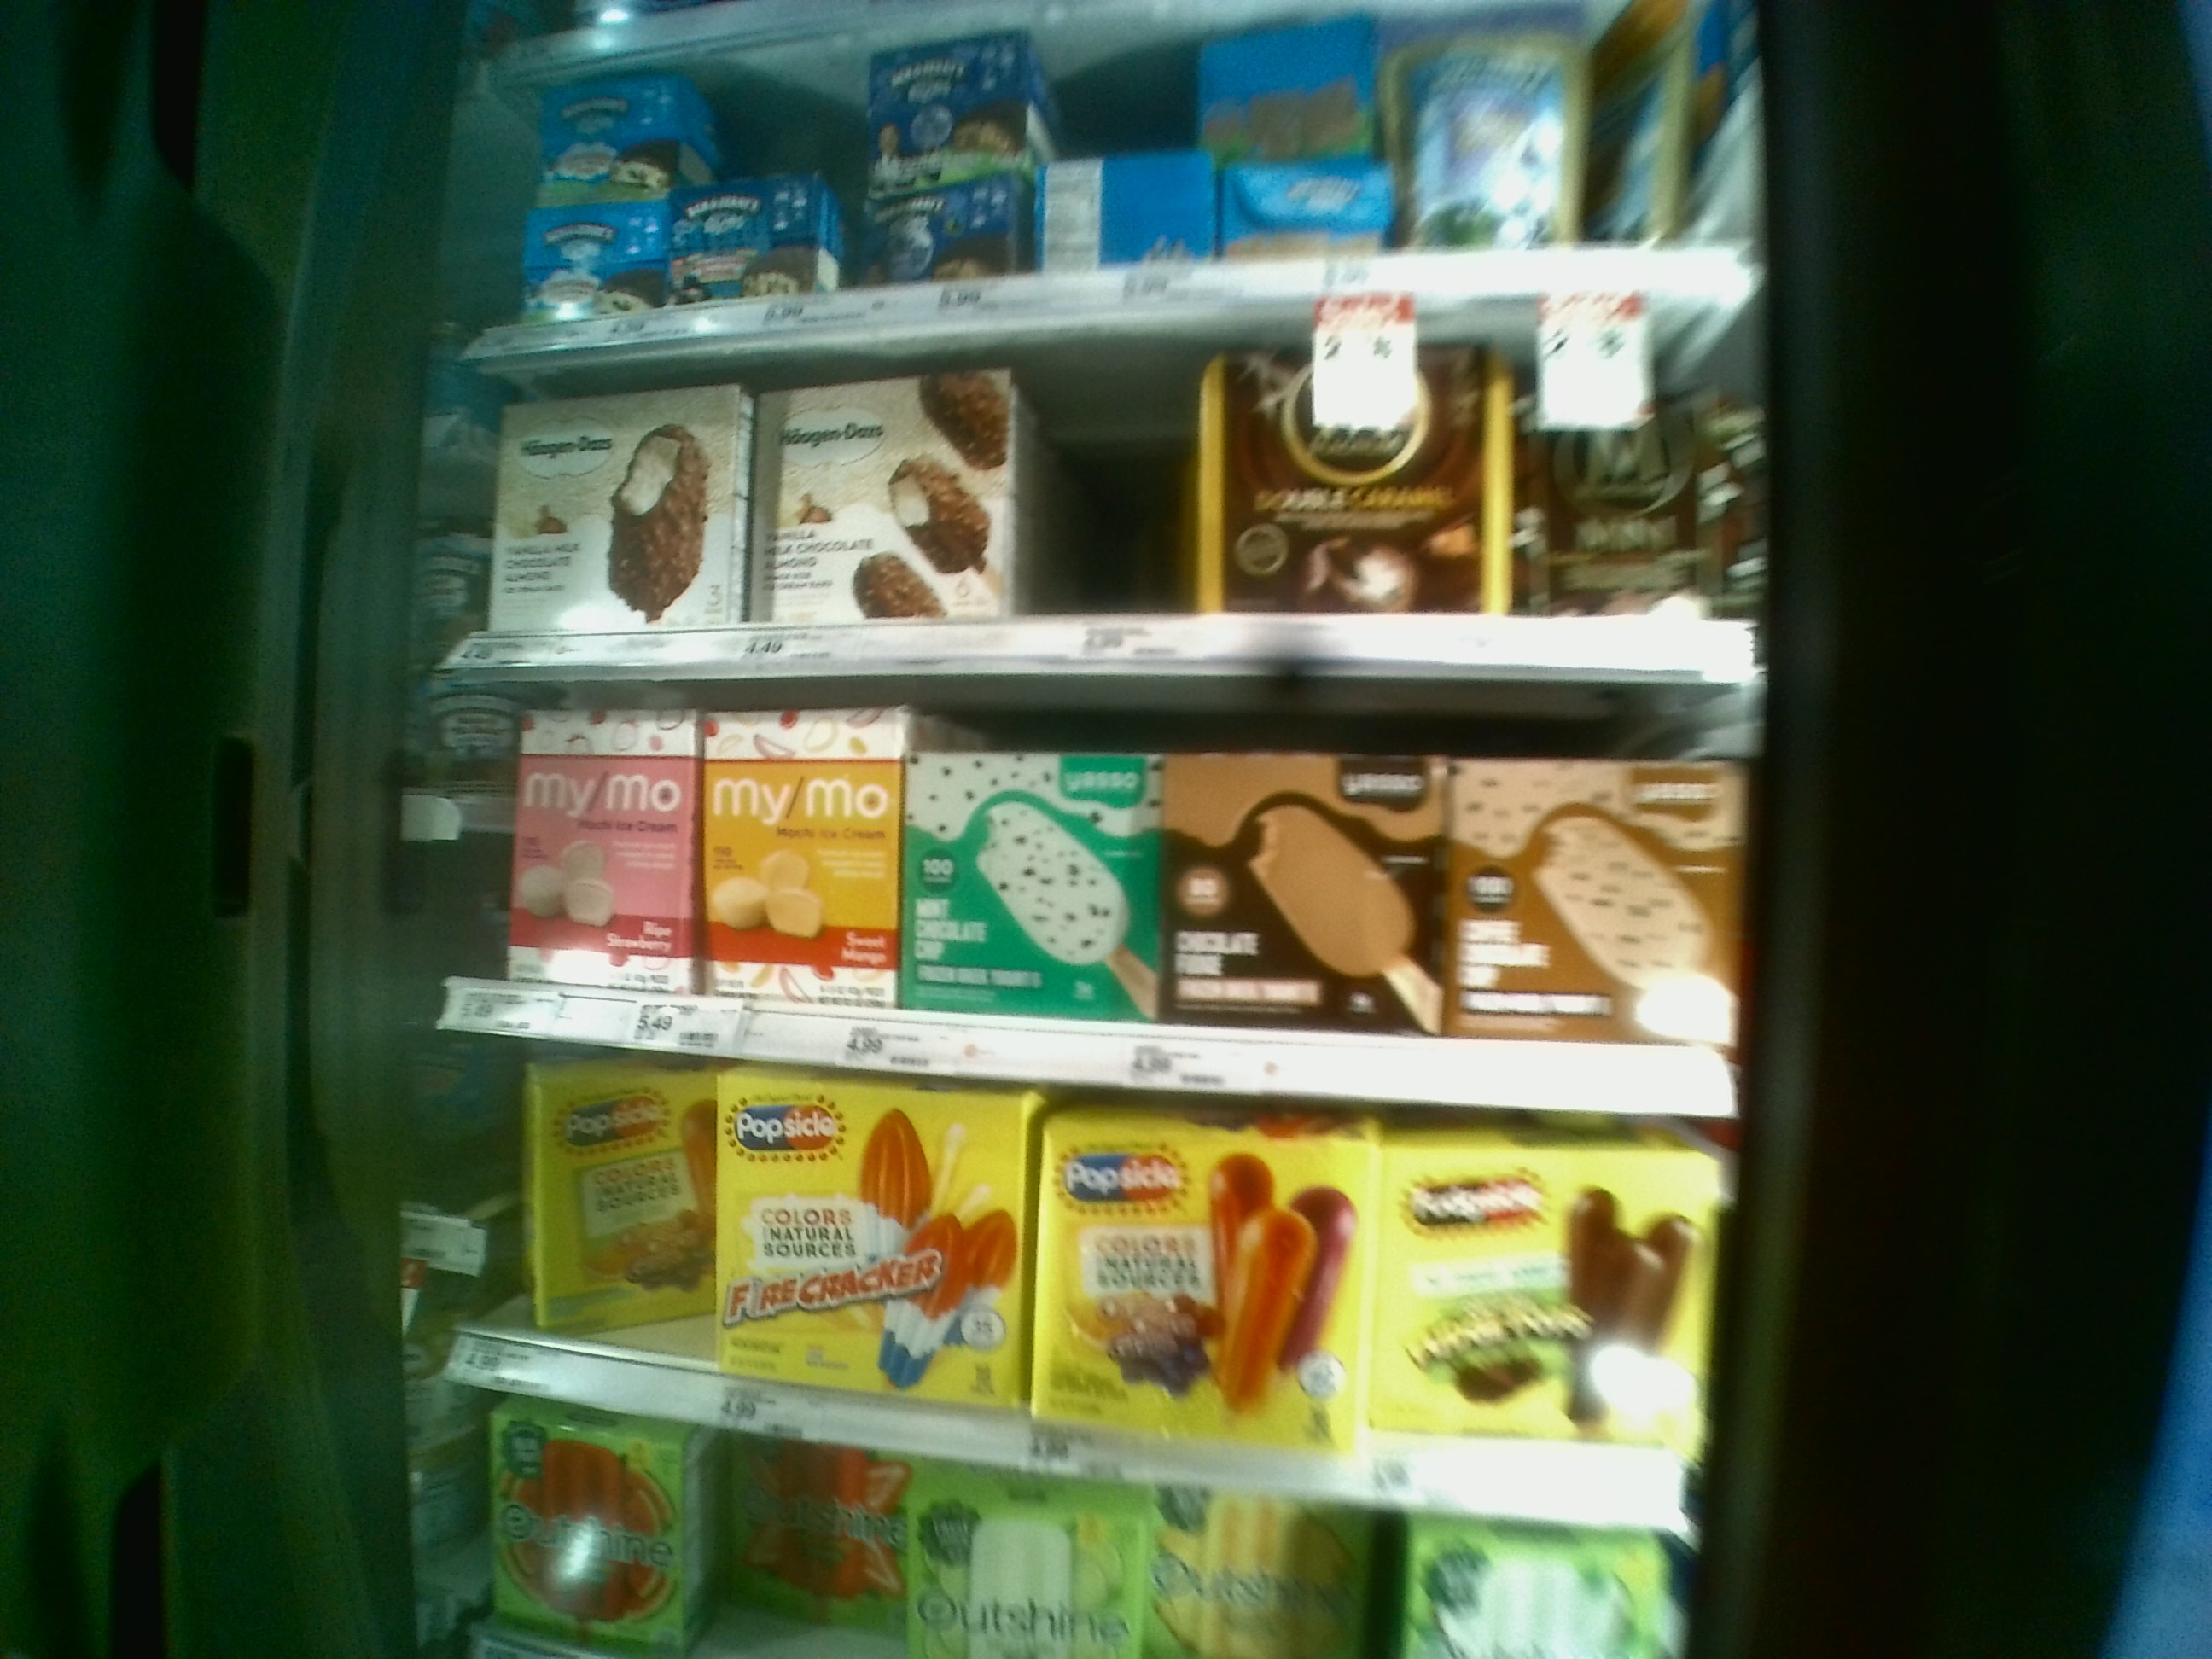shelf: (435, 1033, 1691, 1535), (427, 678, 1731, 1114), (451, 288, 1766, 681)
